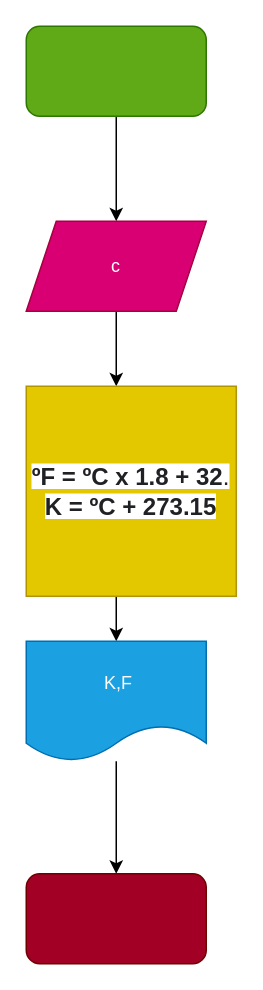
The diagram is 263 pixels wide and 990 high, and some of its shapes have lost their labels. The shapes that lost their labels are listed below. From the top down, each one's box as (x1, y1, x2, y2) in pixels, then its label:
(25, 25, 206, 116): inicio
(25, 872, 206, 964): fin
